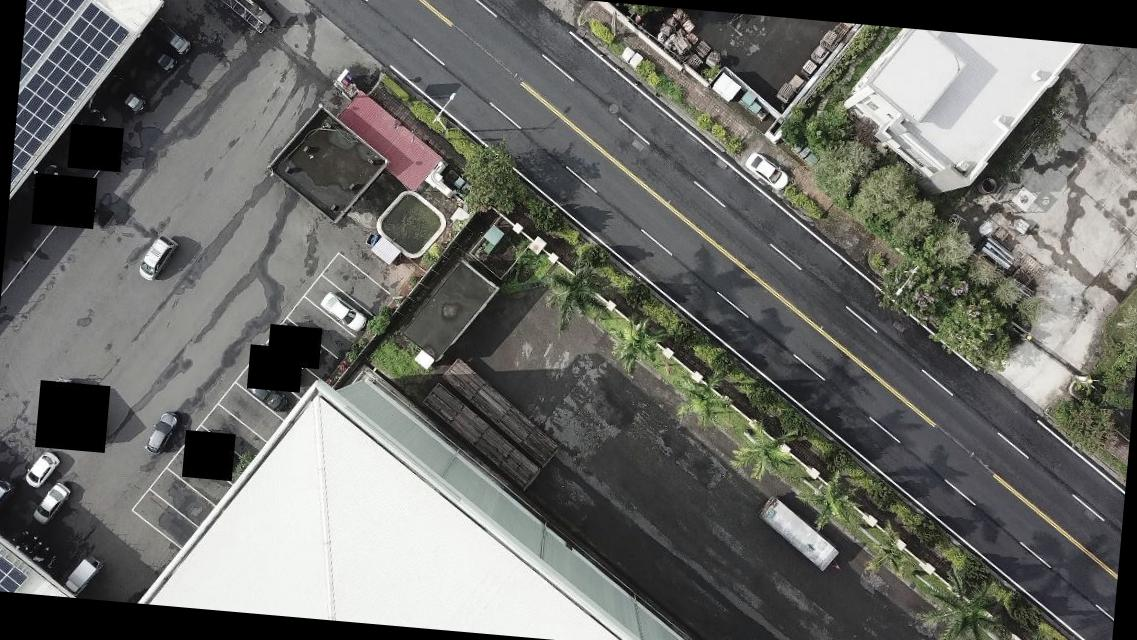vehicle: (318, 292, 368, 336), (98, 76, 148, 116), (30, 480, 70, 528), (138, 232, 176, 282), (741, 154, 791, 192), (147, 15, 193, 55), (134, 37, 180, 76), (63, 551, 101, 597), (242, 377, 288, 415), (22, 449, 59, 491), (144, 409, 177, 455), (0, 478, 14, 523)
